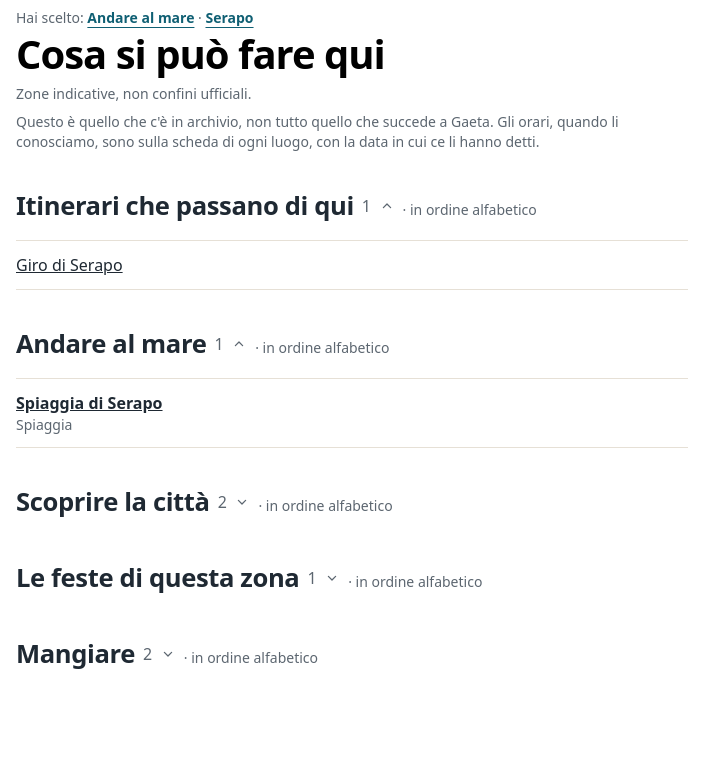
CosaFareView — the wizard’s third step (review PR-21) › opens a section put away at the reader’s word, and the map draws what is open
The width and height of the screenshot is (705, 784).
Click the button "Scoprire la città 2".
click(133, 502)  # box [16,480,250,524]
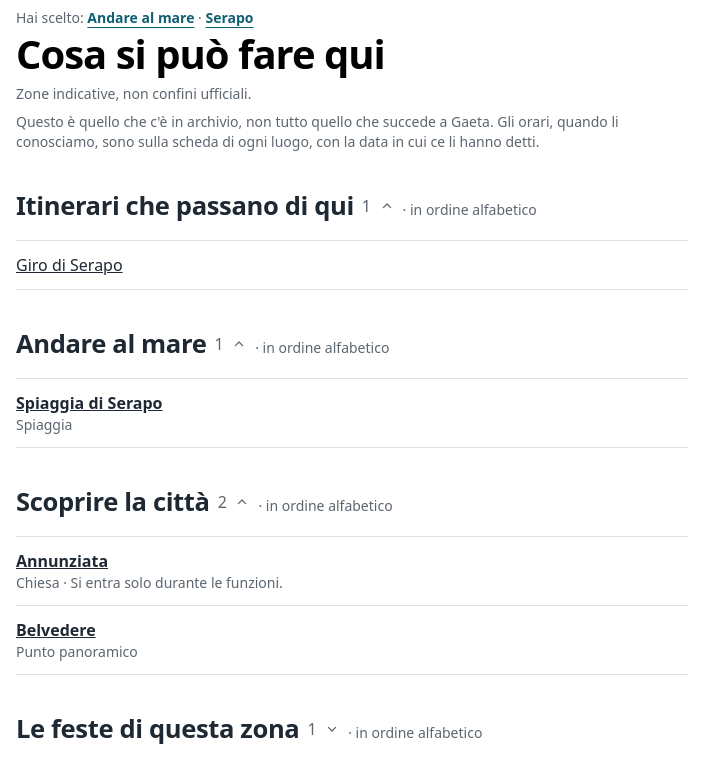
Result: the button "Scoprire la città 2" is expanded at [16,480,250,524]
